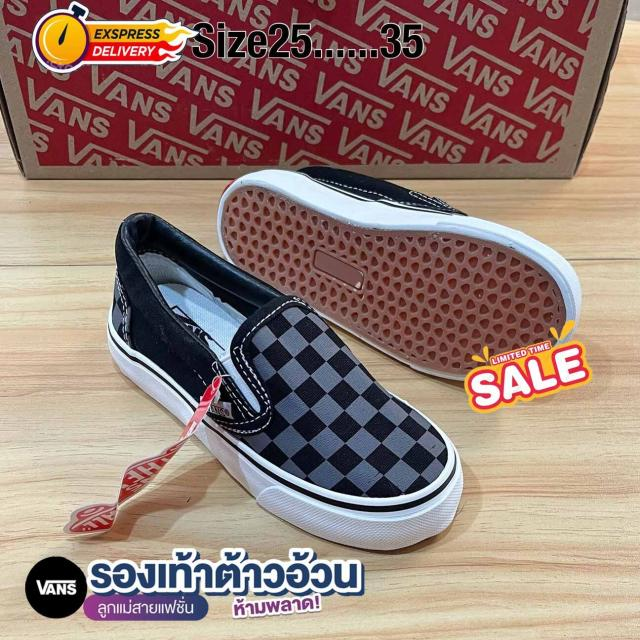shoes: (104, 209, 466, 552)
